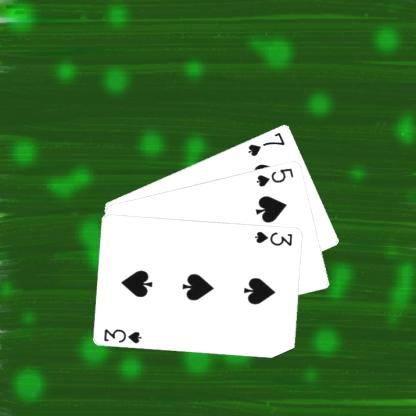3S: (253, 228, 294, 247), (101, 326, 143, 344)
5S: (254, 165, 295, 188)
7S: (246, 129, 286, 157)
